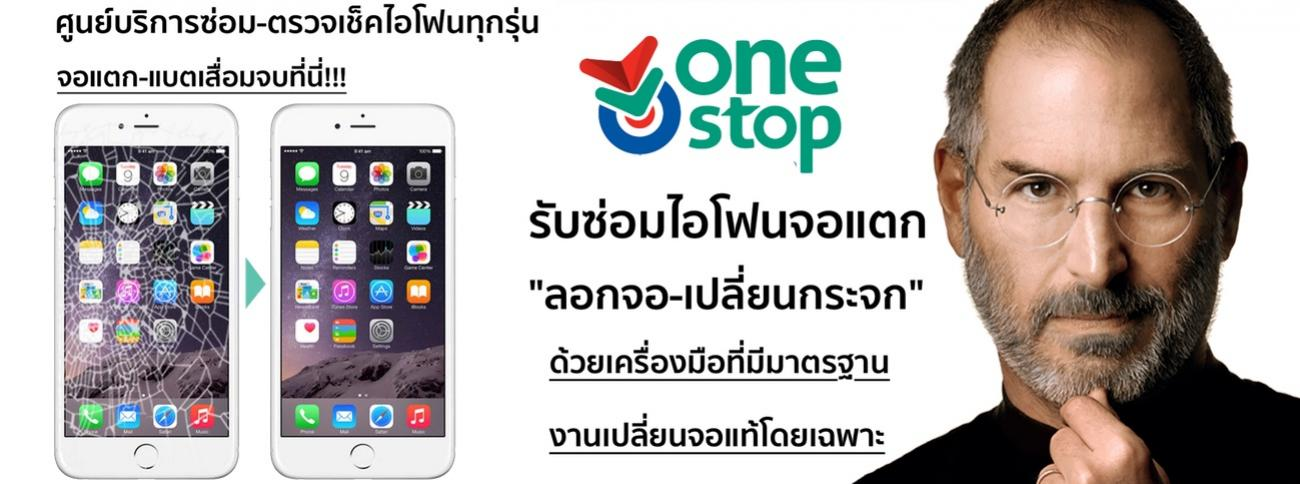phone: (265, 99, 460, 481), (51, 102, 244, 484)
